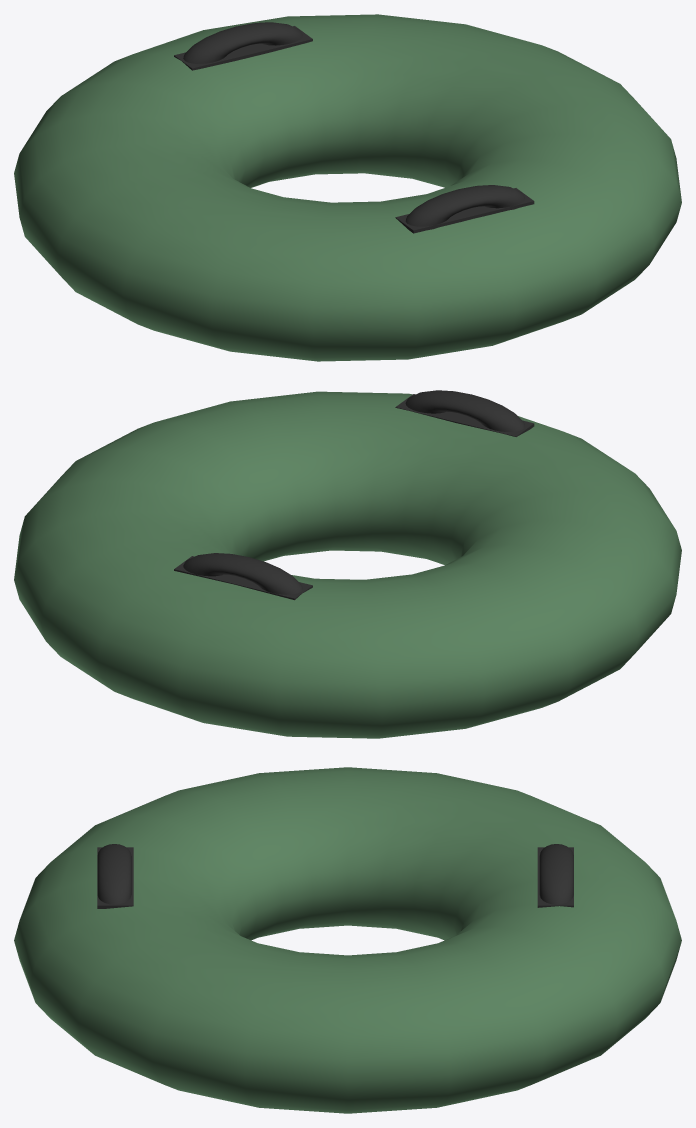
The model's file is RowenF_Inner_Tube_Divergence (1).fbx.
3 views of the same model, one above another, from view 1: azimuth 30°, elevation 25°; view 2: azimuth 150°, elevation 25°; view 3: azimuth 270°, elevation 25° (orthographic).
Visible parts, largest first — view 1: pTorus1, pasted__pTorus2, pTorus2, pCube1, pasted__pCube1; view 2: pTorus1, pTorus2, pasted__pTorus2, pasted__pCube1, pCube1; view 3: pTorus1, pTorus2, pasted__pTorus2.
Boxes of the visible parts, x1,y1,x2,y2 form: pTorus1: (14,14,681,361); pasted__pTorus2: (405,185,524,229); pTorus2: (183,22,302,63); pCube1: (174,26,312,70); pasted__pCube1: (395,188,534,233); pTorus1: (14,391,681,738); pTorus2: (183,553,302,594); pasted__pTorus2: (405,390,524,431); pasted__pCube1: (395,394,534,436); pCube1: (174,556,312,600); pTorus1: (14,767,681,1113); pTorus2: (539,844,573,904); pasted__pTorus2: (97,844,131,904).
Size of the model in its own units: 4.45 by 1.07 by 4.45.
